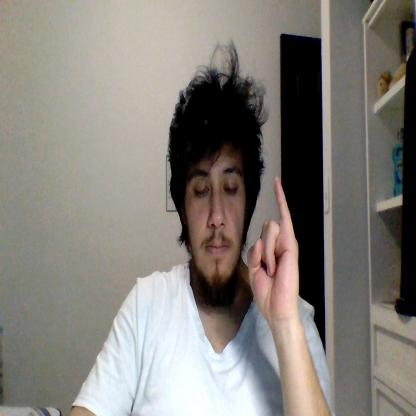I: (247, 176, 298, 314)
